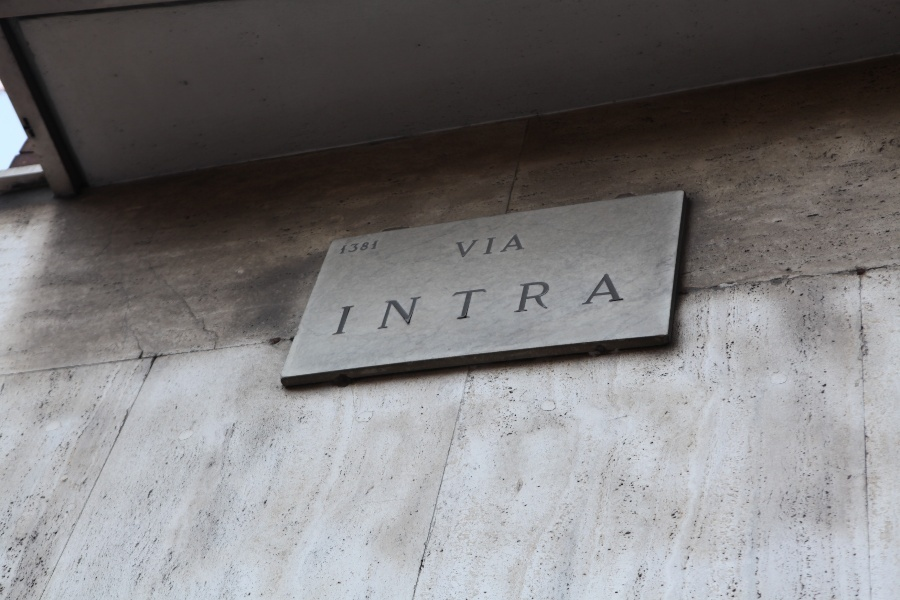text: (353, 272, 368, 338), (369, 272, 384, 338), (385, 272, 400, 338), (401, 272, 416, 338), (417, 272, 432, 338), (433, 272, 448, 338), (449, 272, 464, 338), (465, 272, 480, 338), (481, 272, 496, 338), (497, 272, 512, 338), (513, 272, 528, 338), (529, 272, 544, 338), (545, 272, 560, 338), (561, 272, 576, 338), (577, 272, 592, 338), (593, 272, 608, 338), (609, 272, 624, 338), (343, 272, 352, 338), (465, 233, 480, 261), (481, 233, 496, 261), (497, 233, 512, 261), (513, 233, 526, 261), (454, 233, 464, 261), (353, 240, 368, 256), (625, 272, 628, 338), (369, 240, 379, 256), (343, 240, 352, 256)
